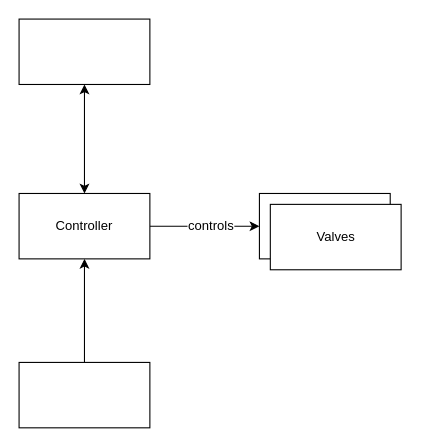
Image size: 421x447. Some labels were removed from this diagram. Each missing label, with the centre of its shape:
Homie: [84,394]
Timer: [84,51]
